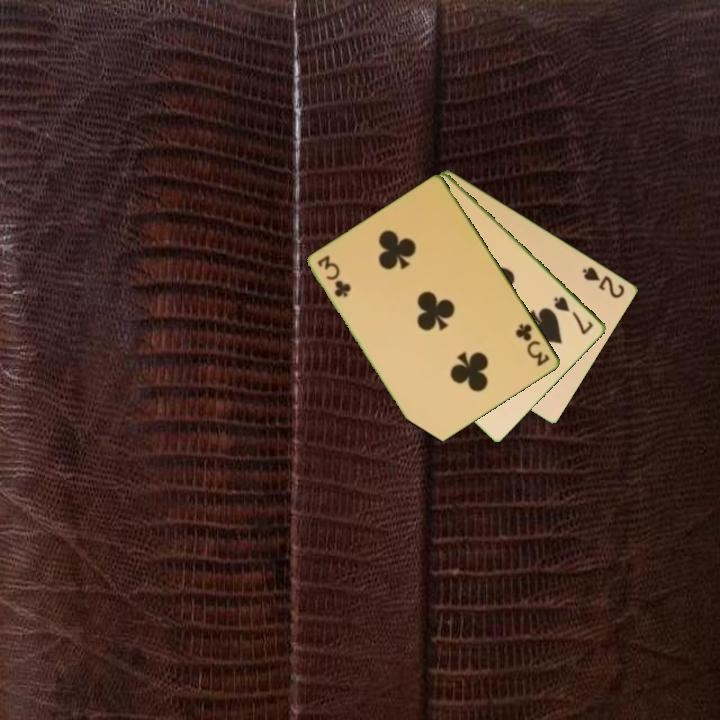2s: (579, 263, 628, 301)
3c: (512, 319, 553, 369), (314, 251, 354, 300)
7s: (551, 293, 597, 338)
